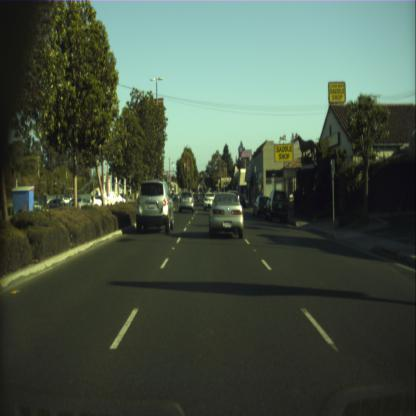Green: (207, 172, 209, 178), (224, 182, 226, 186), (226, 181, 227, 187)
